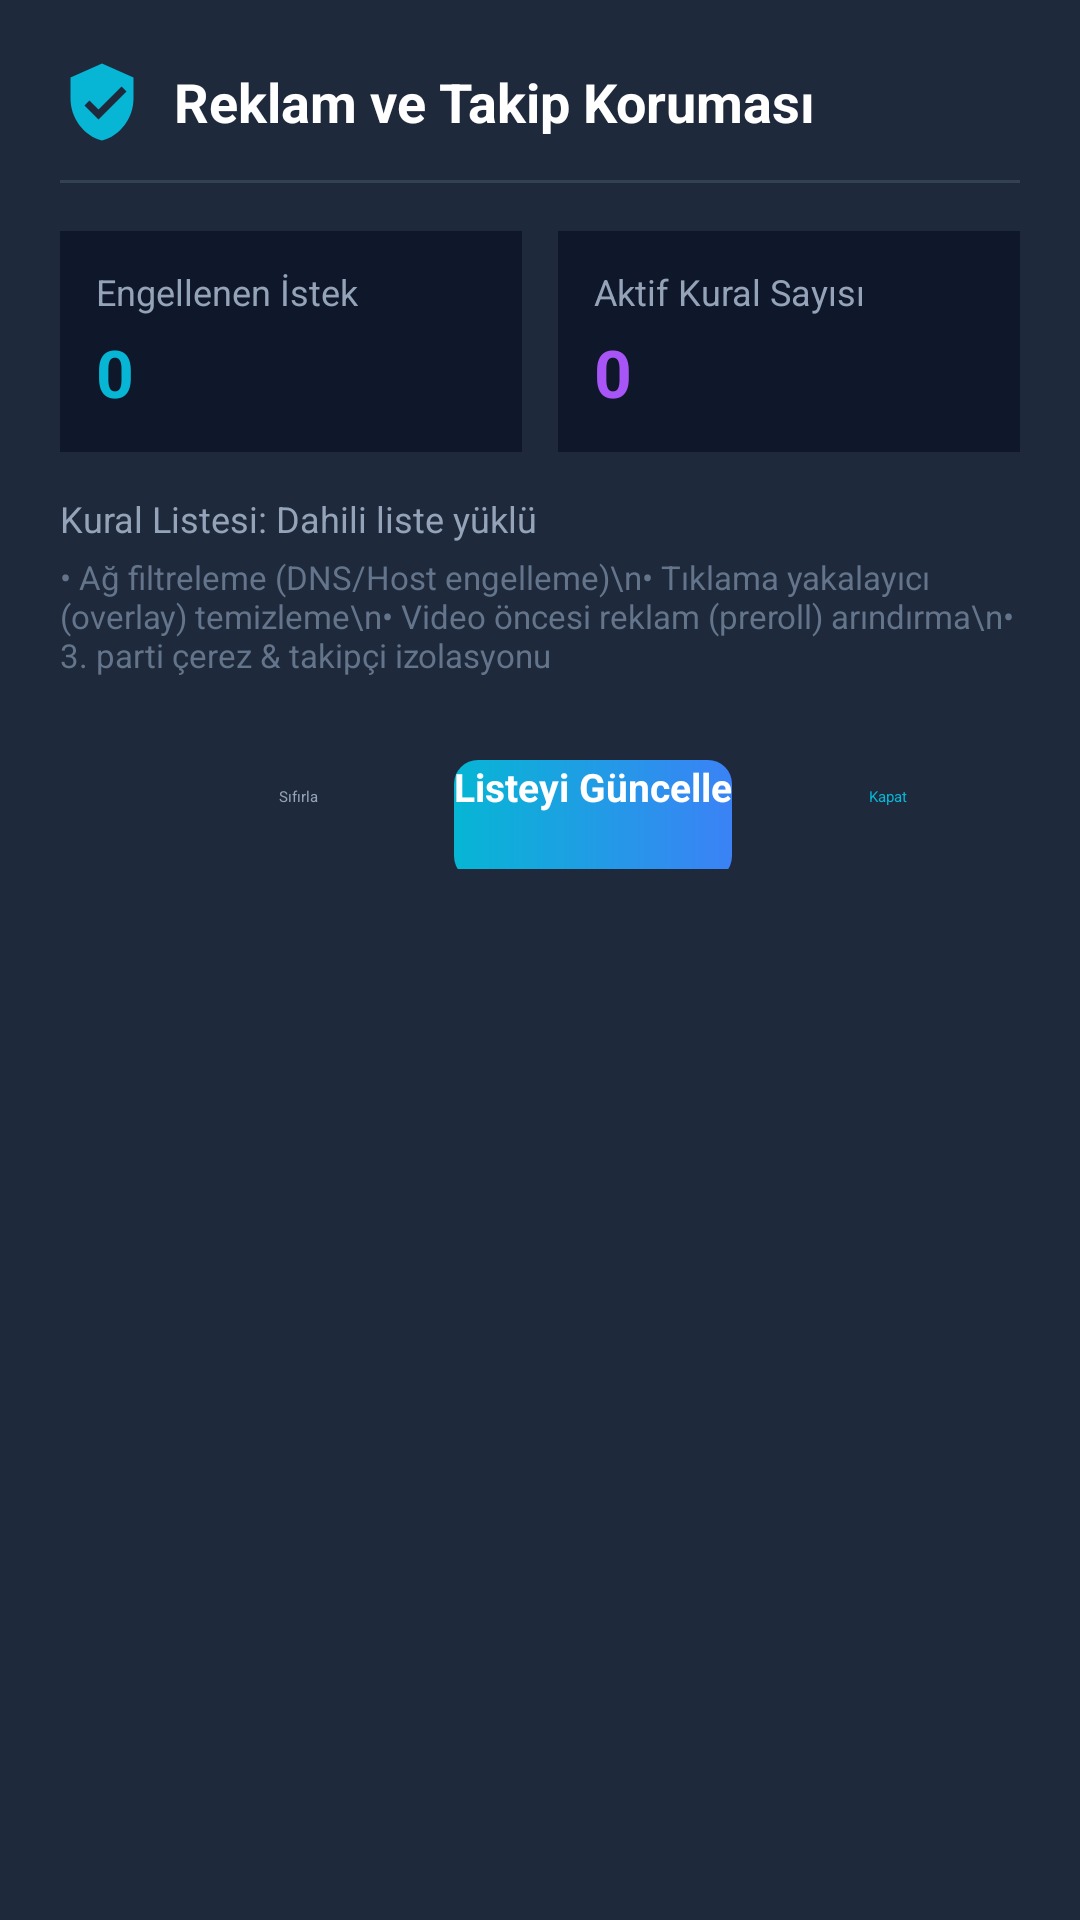

Icon click points for this 1080 × 1920 phone screenshot, format (x,y):
AdBlock Kalkanı: (102,102)
